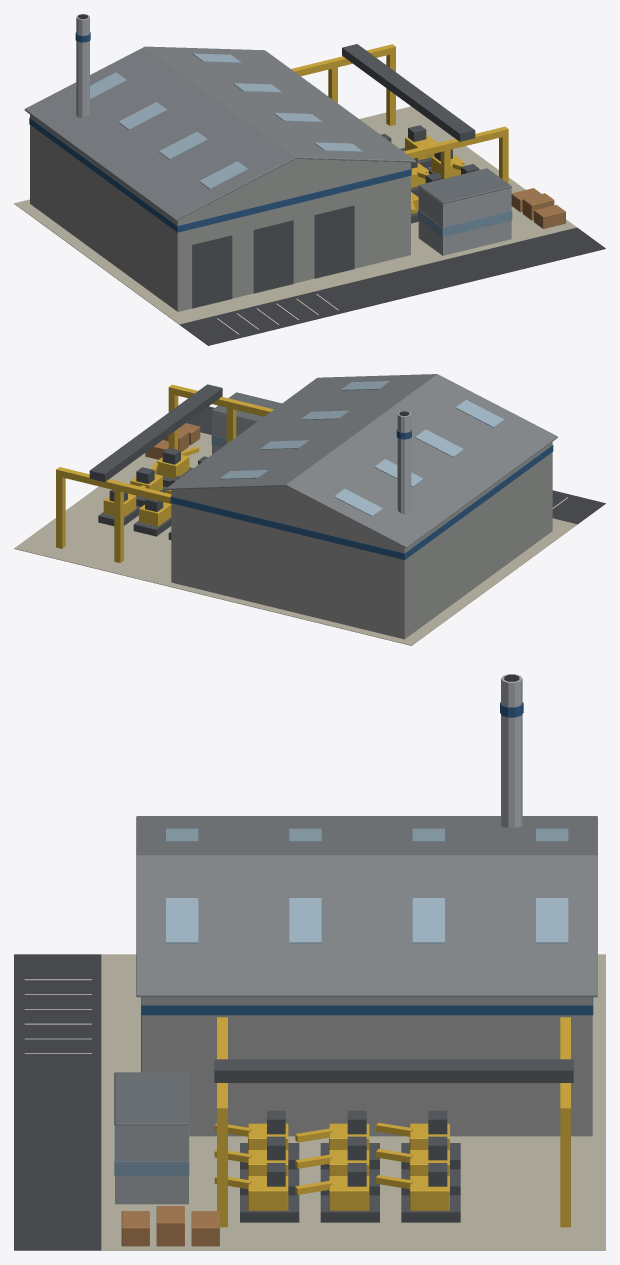
The model's file is machineworks.glb.
3 views of the same model, one above another, from view 1: azimuth 30°, elevation 25°; view 2: azimuth 150°, elevation 25°; view 3: azimuth 270°, elevation 25° (orthographic). The views are drawn at different scales.
Parts seen in each view (by area): view 1: machineworks; view 2: machineworks; view 3: machineworks.
Part boxes in pixels (box(x1,y1,x2,y2)): machineworks: box(14, 14, 605, 345); machineworks: box(14, 374, 605, 645); machineworks: box(14, 674, 605, 1250).
Bounding box in the file's own units: 52 × 25.06 × 44.
